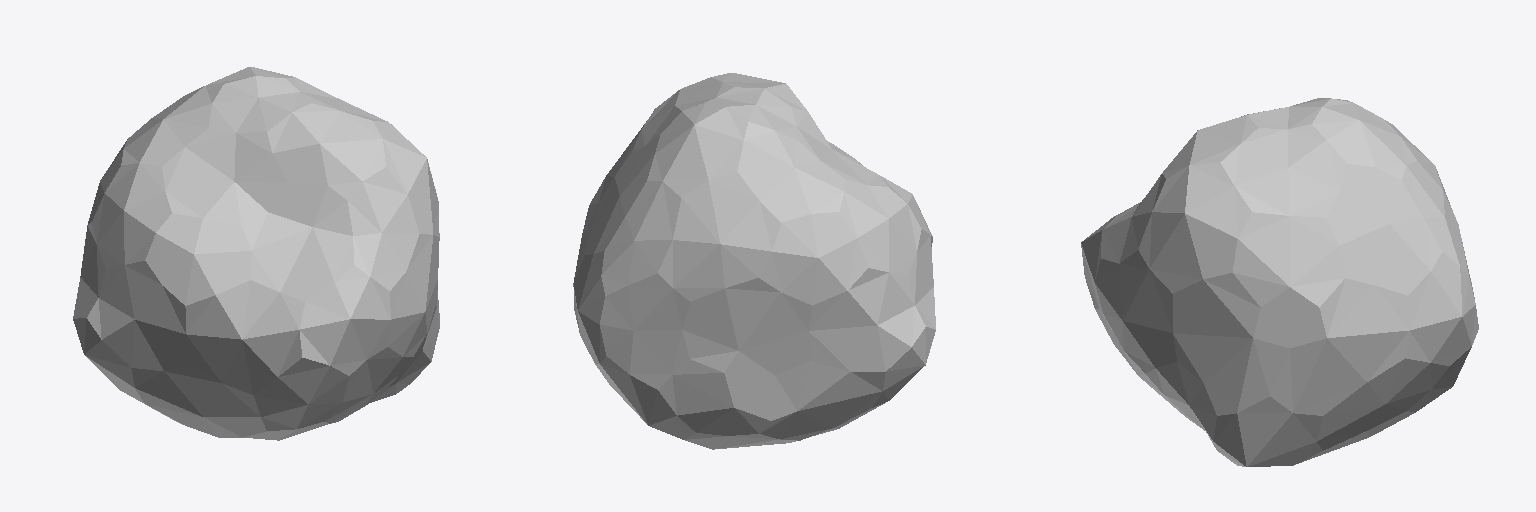
The model's file is rock_export.obj.
3 views of the same model, side by side, from view 1: azimuth 30°, elevation 25°; view 2: azimuth 150°, elevation 25°; view 3: azimuth 270°, elevation 25° (orthographic).
Visible parts, largest first — view 1: Icosphere; view 2: Icosphere; view 3: Icosphere.
Boxes of the visible parts, box(x1,y1,x2,y2) form: Icosphere: box(73, 67, 439, 440); Icosphere: box(573, 73, 935, 449); Icosphere: box(1081, 98, 1478, 466).
Size of the model in its own units: 0.2995 by 0.277 by 0.3132.